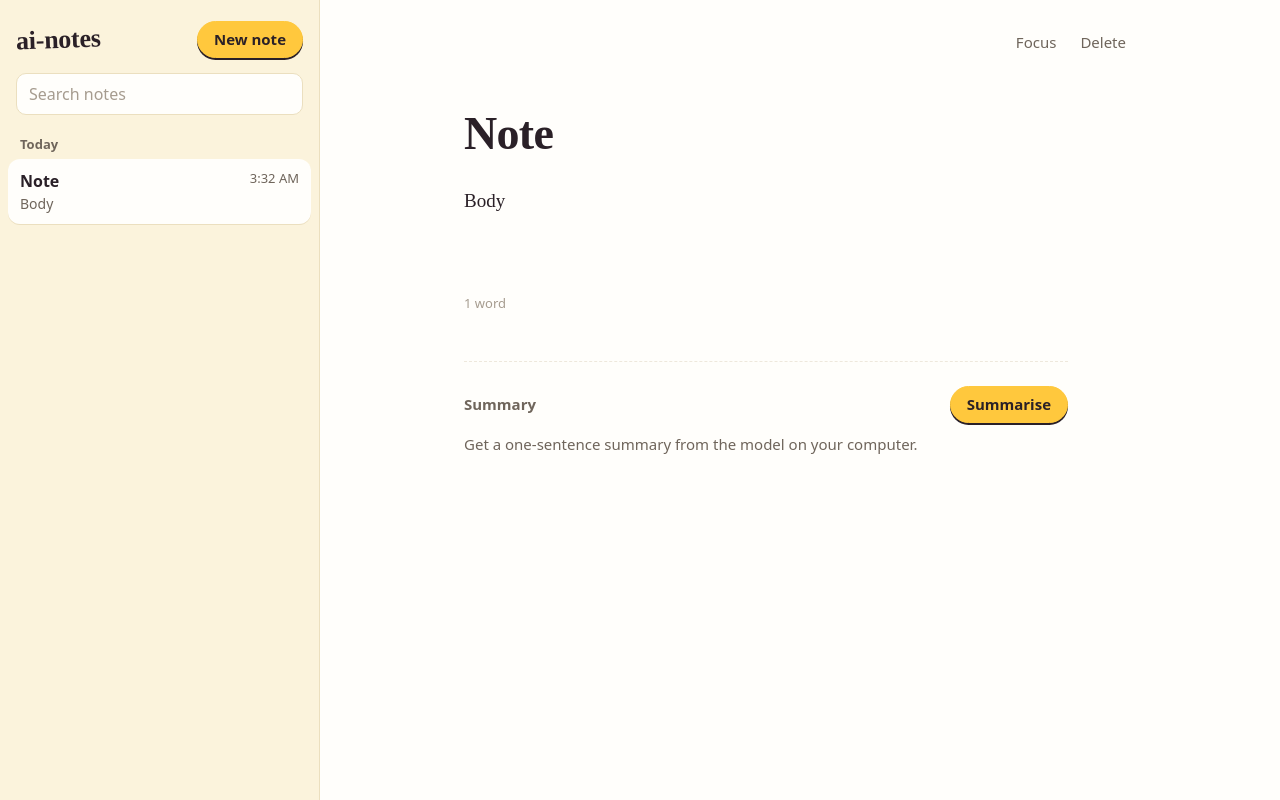
summaries › explains a 503 from summarise
The image size is (1280, 800).
Click the button "Summarise": x=1009, y=405 [950,386,1068,423]
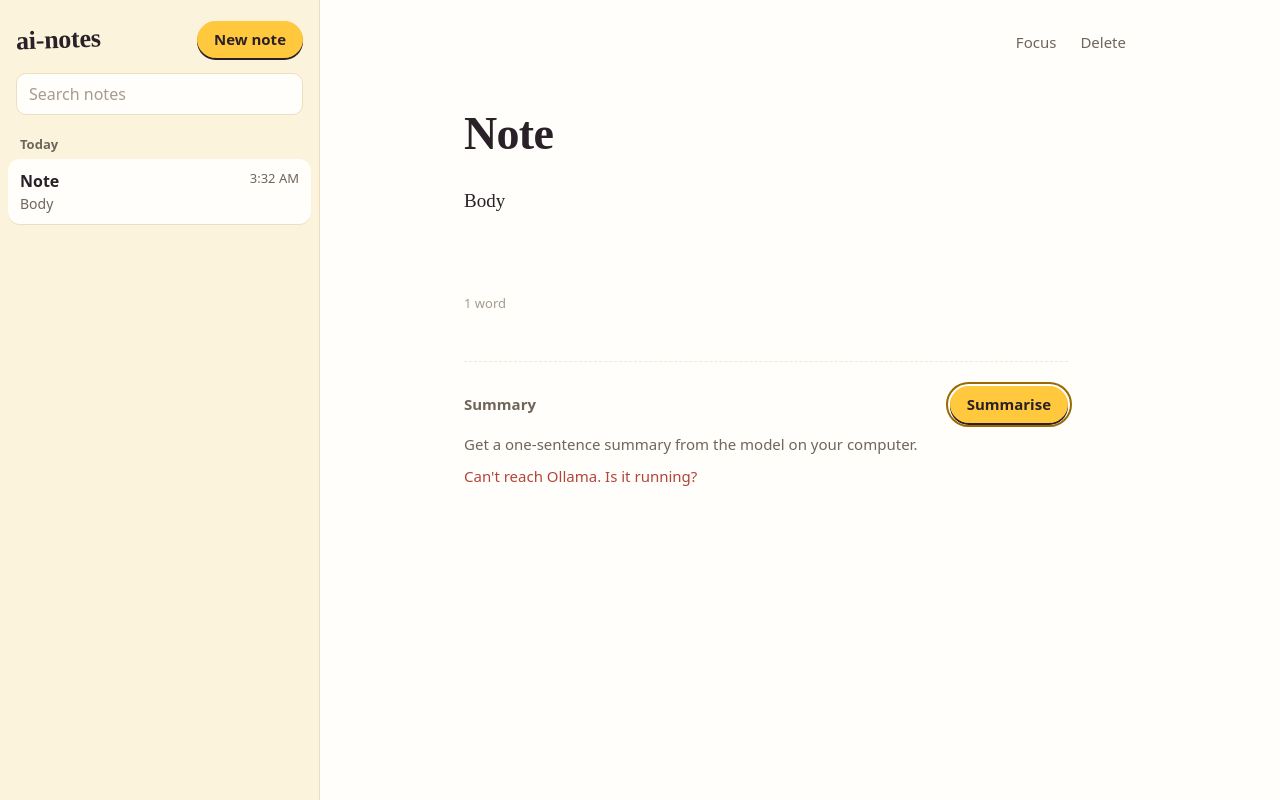
Expected: the message reads "Can't reach Ollama. Is it running?", [464,466,697,486]
